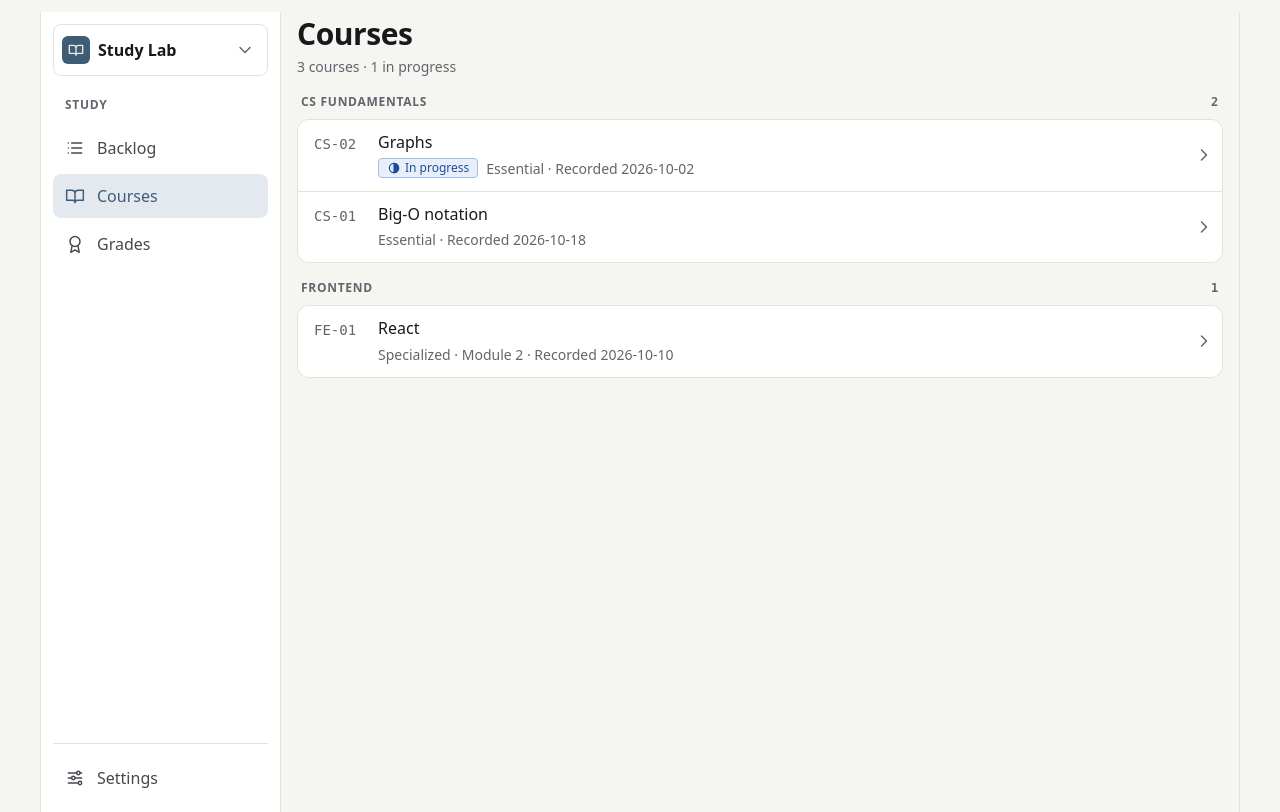
Test: Courses › opens the reader from a row
Click the link "CS-02 Graphs Essential · Recorded 2026-10-02" at (335, 144), box [298,120,1222,191]
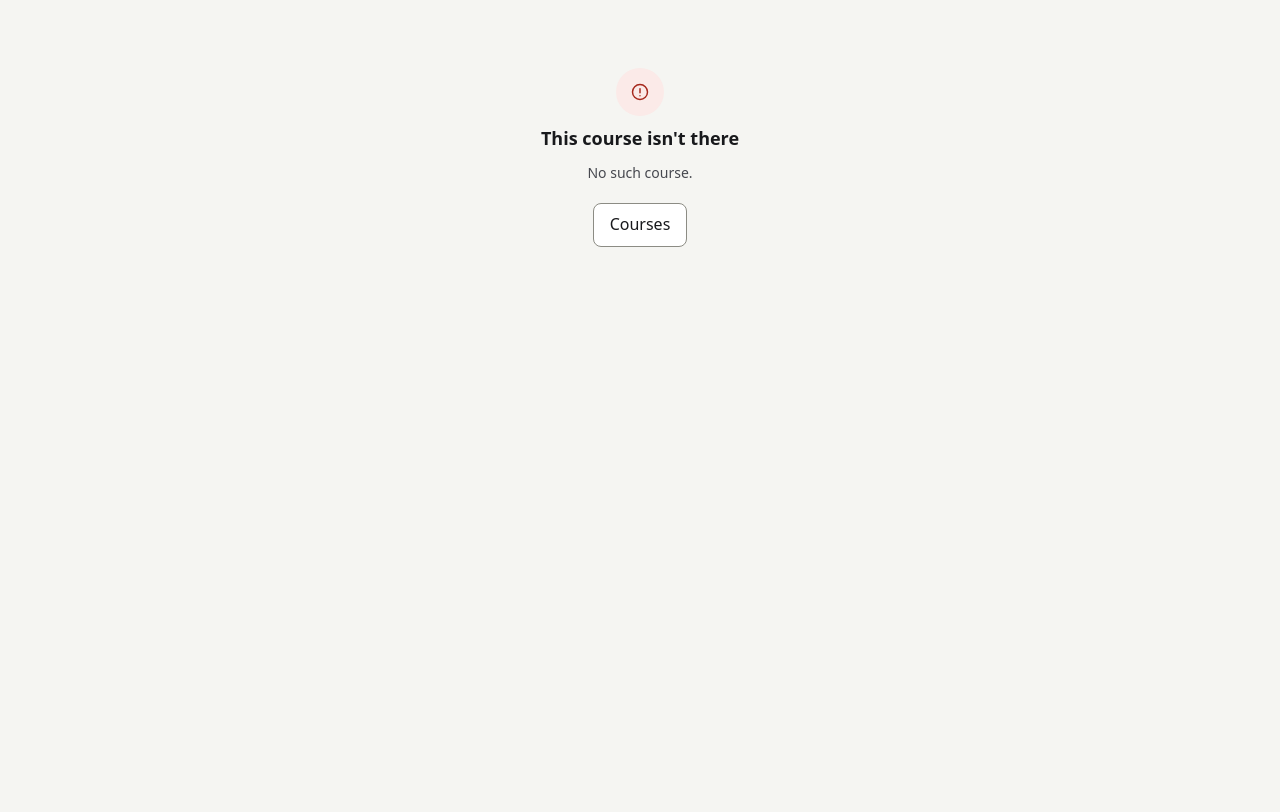
Expected: the element with class "shell" is gone
